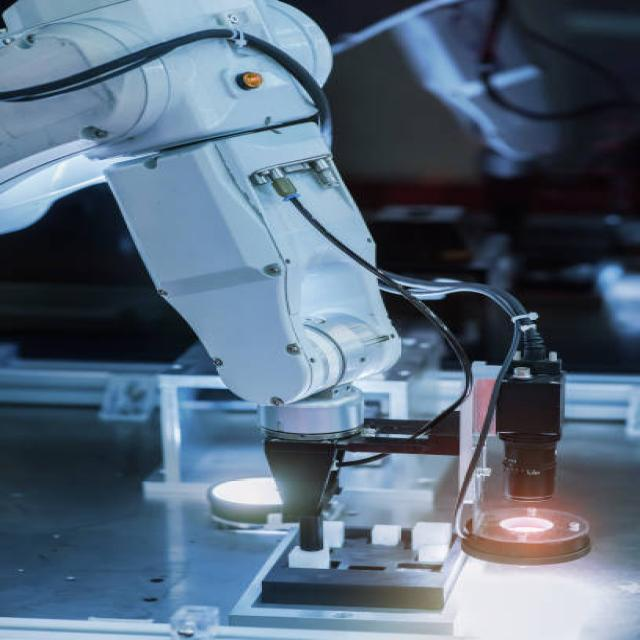Robotic-arm: (0, 0, 431, 489)
